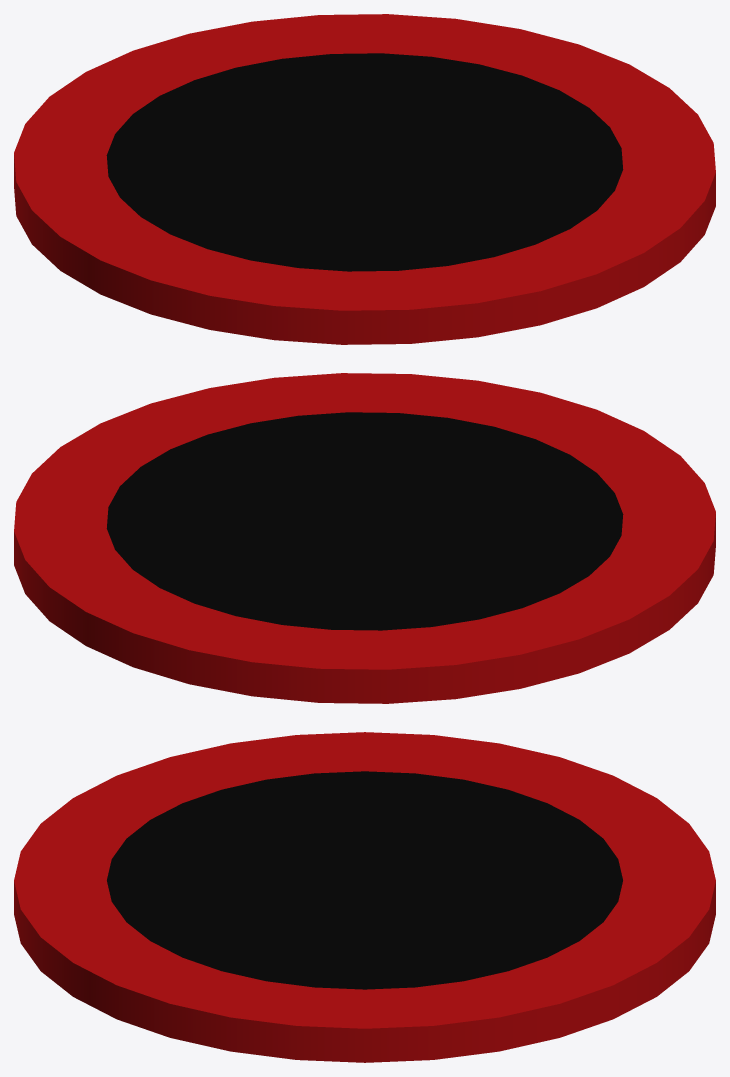
The model's file is bitis_butonu.fbx.
3 renders of one model, top to bottom at view 1: azimuth 30°, elevation 25°; view 2: azimuth 150°, elevation 25°; view 3: azimuth 270°, elevation 25°, orthographic.
Parts seen in each view (by area): view 1: Circle.001; view 2: Circle.001; view 3: Circle.001.
Part boxes in pixels (x1,y1,x2,y2): Circle.001: (14, 14, 715, 344); Circle.001: (14, 373, 715, 703); Circle.001: (14, 732, 715, 1062).
Bounding box in the file's own units: 79.89 × 4.28 × 79.89.
